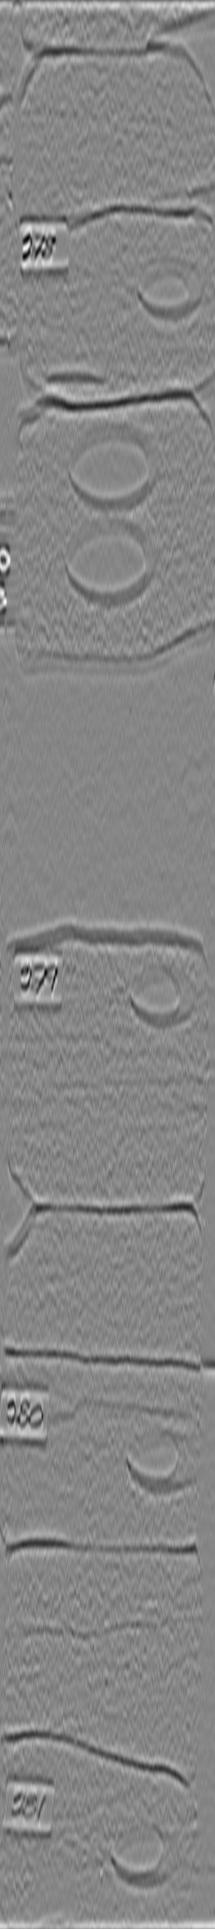hplug: (118, 960, 204, 1033), (120, 1423, 200, 1501), (102, 1817, 184, 1891), (130, 249, 208, 321)
scal: (61, 415, 163, 515), (61, 515, 166, 611)
vplug: (41, 209, 120, 389), (20, 1411, 88, 1546), (28, 1829, 86, 1929)
